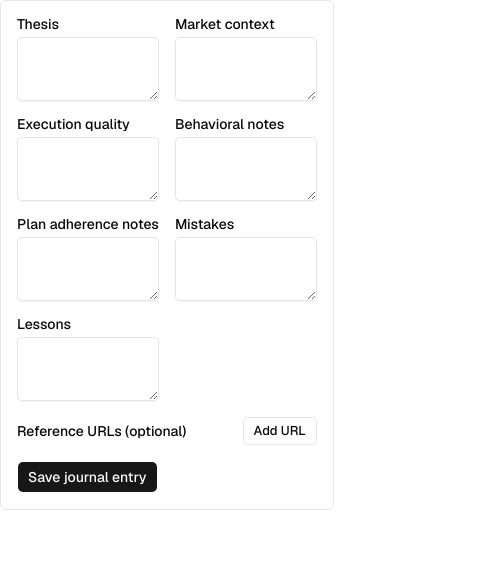
Test: JournalForm › shows a distinct error when the save fails
Click the button "Save journal entry": (87, 477) x1=17 y1=461 x2=158 y2=493
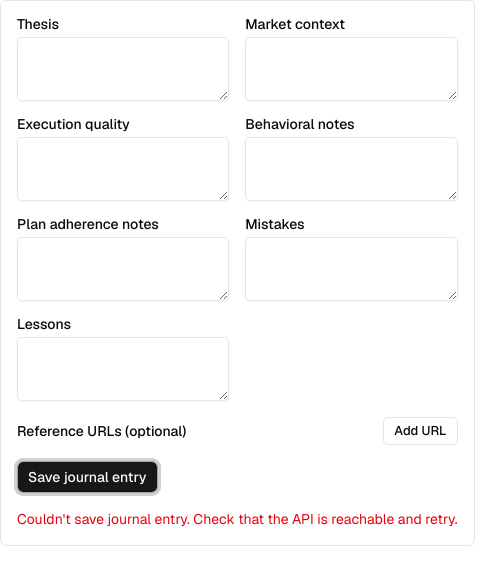
Check: the text "Couldn't save journal entry. Check that the API is reachable and retry." is shown, box x1=17 y1=509 x2=458 y2=529
